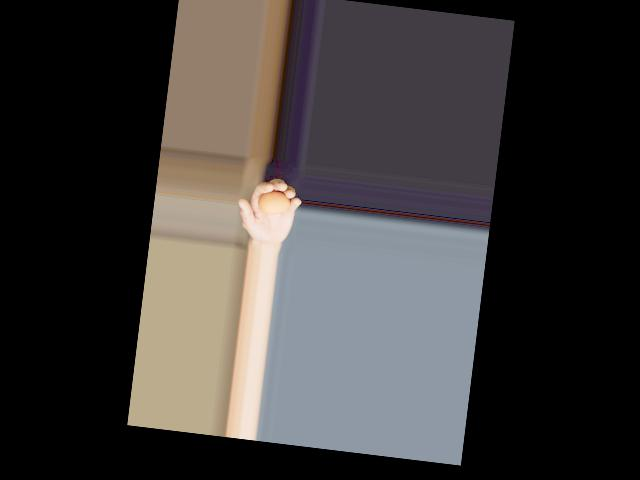egg: (257, 190, 291, 216)
